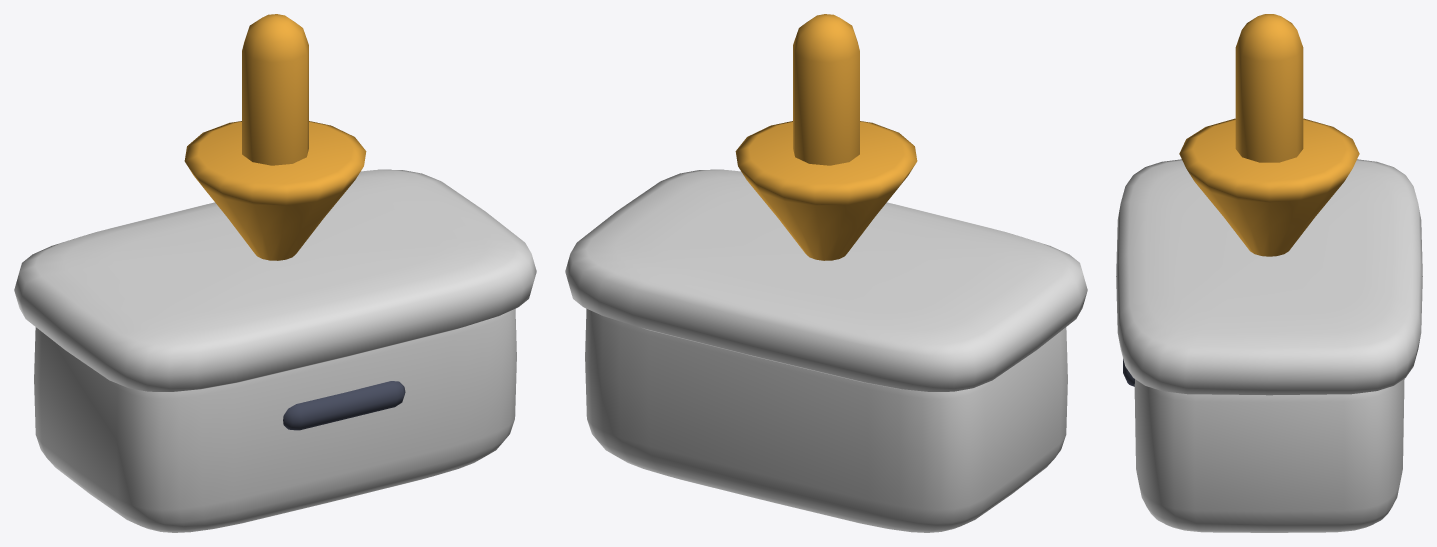
Rendered from git_stash.glb.
The picture shows the model from 3 angles, left to right: view 1: azimuth 30°, elevation 25°; view 2: azimuth 150°, elevation 25°; view 3: azimuth 270°, elevation 25°; orthographic projection.
Visible parts, largest first — view 1: git_stash; view 2: git_stash; view 3: git_stash.
Part boxes in pixels (bbox=[...]): git_stash: bbox=[14, 14, 536, 532]; git_stash: bbox=[565, 14, 1087, 532]; git_stash: bbox=[1116, 14, 1422, 532].
Size of the model in its own units: 0.9954 by 1 by 0.6267.
